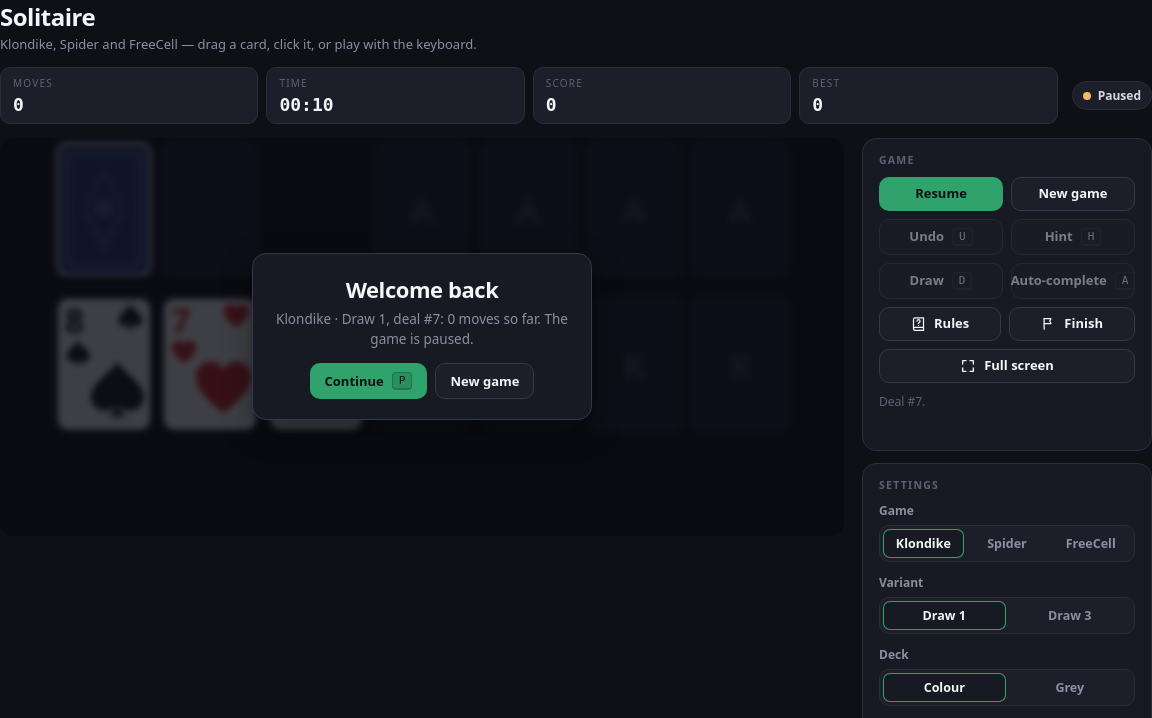
Test case: <SolitaireGame /> › clicking a card that cannot move leaves the table alone
Expected: the dialog "Welcome back" is shown, [0,138,844,536]
Press p
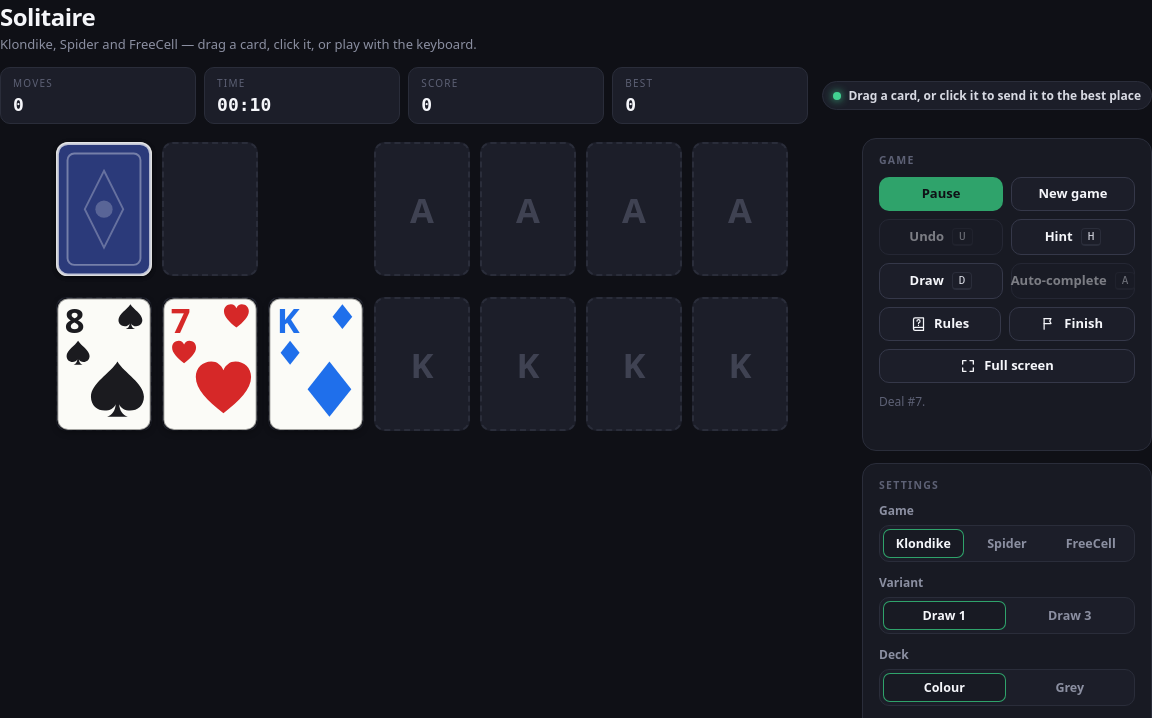
Expected: the dialog is gone
Press the mouse on the 4th element showing "K" at [316, 364], box [268,297,364,432]
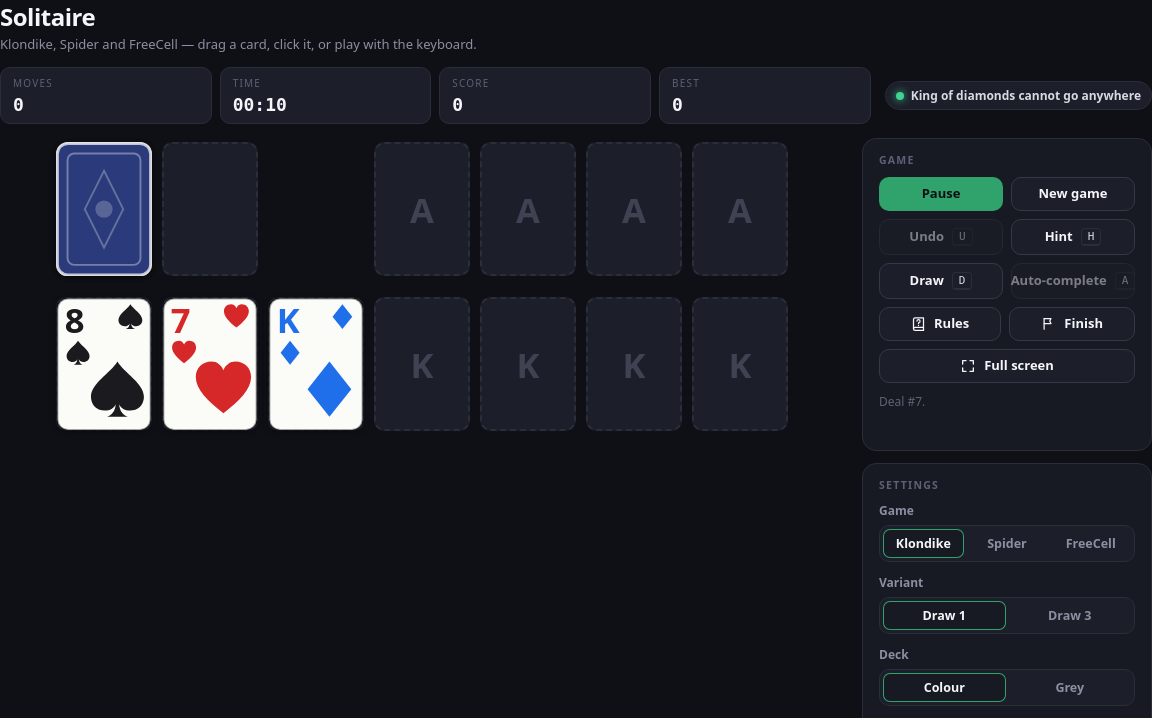
Expected: the message reads "King of diamonds cannot go anywhere", [911,87,1141,104]
